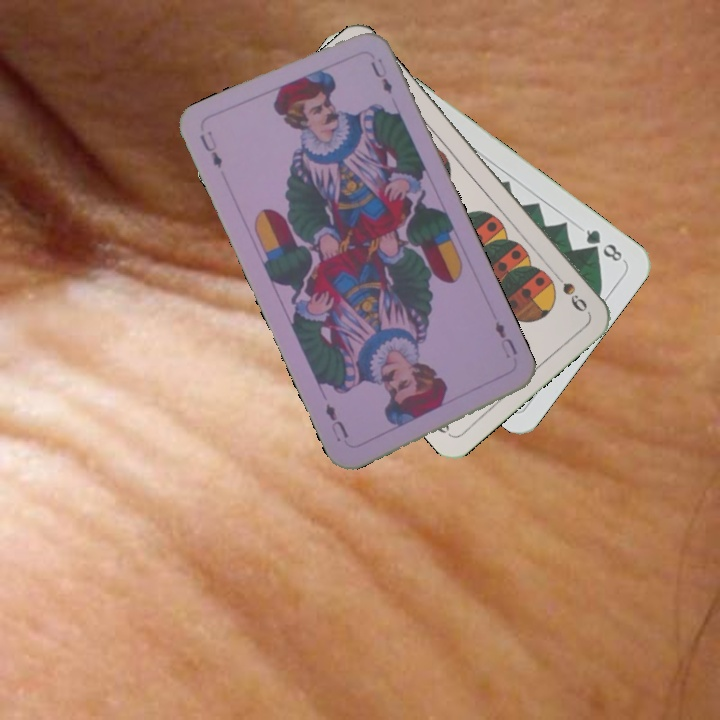EU: (490, 317, 521, 360), (195, 130, 225, 171)
G8: (581, 225, 626, 265)
S9: (547, 266, 590, 315)
